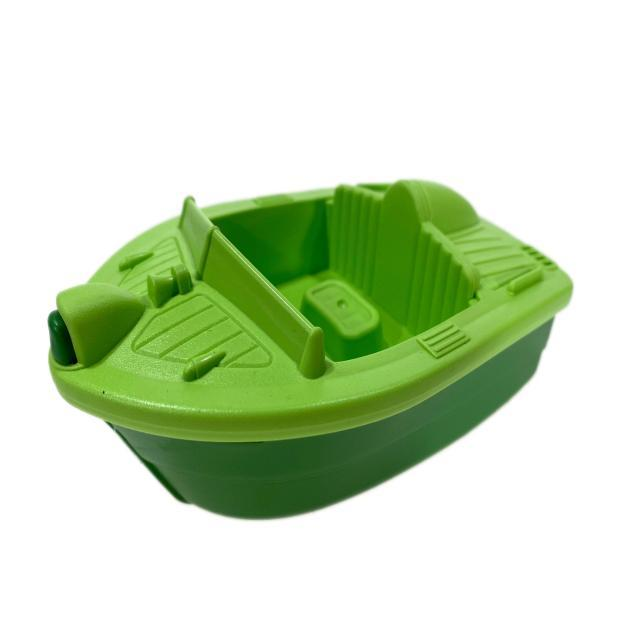hard-toy: (50, 181, 574, 518)
